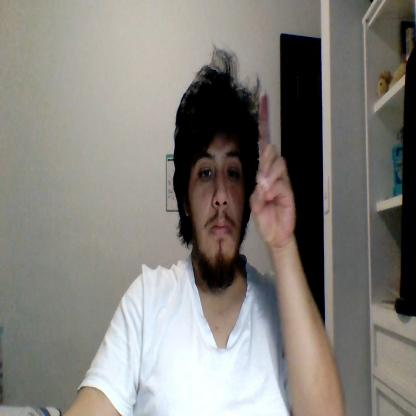D: (250, 92, 294, 246)
